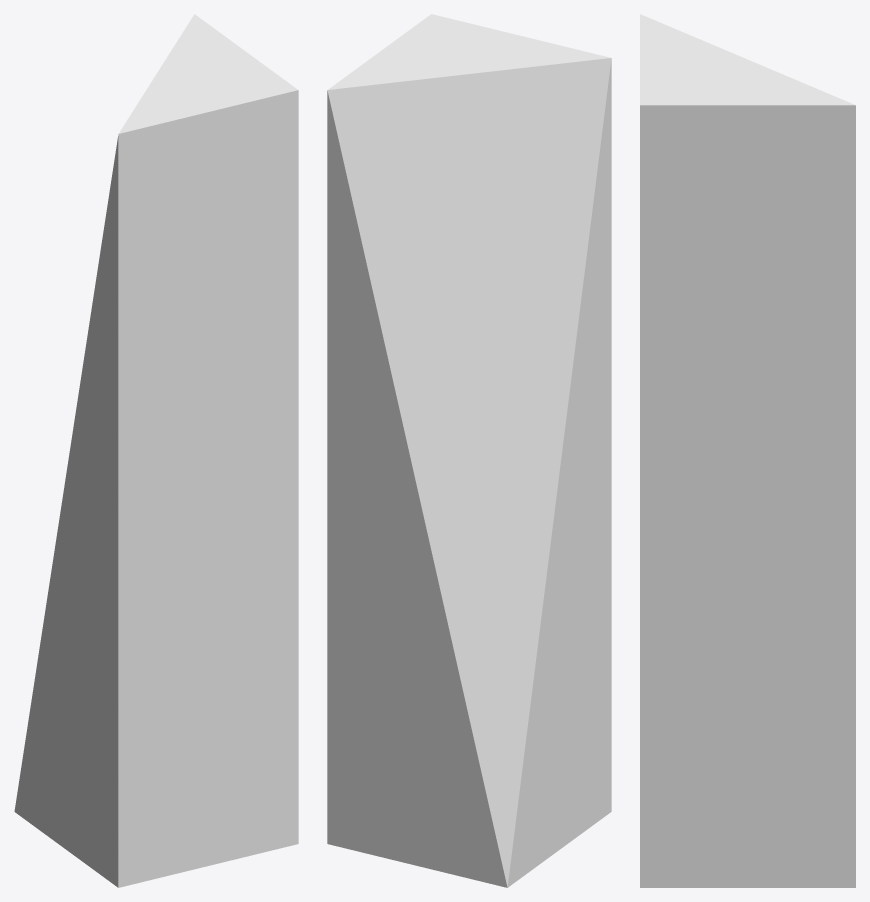
Rendered from Pol_QieJianLiFangTi_FG_1X4_on.FBX.
The picture shows the model from 3 angles, left to right: view 1: azimuth 30°, elevation 25°; view 2: azimuth 150°, elevation 25°; view 3: azimuth 270°, elevation 25°; orthographic projection. The views are drawn at different scales.
Visible parts, largest first — view 1: Box003; view 2: Box003; view 3: Box003.
Part boxes in pixels (x1,y1,x2,y2): Box003: (14,14,298,887); Box003: (327,14,611,887); Box003: (640,14,855,887).
Bounding box in the file's own units: 1 × 4 × 1.
